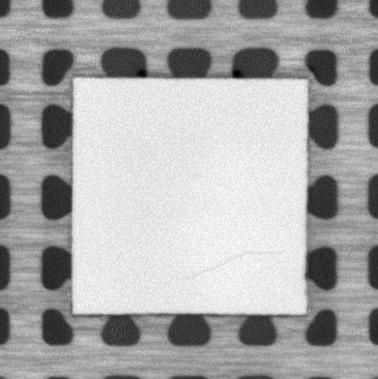DIE_CRACK: (184, 246, 282, 279)
